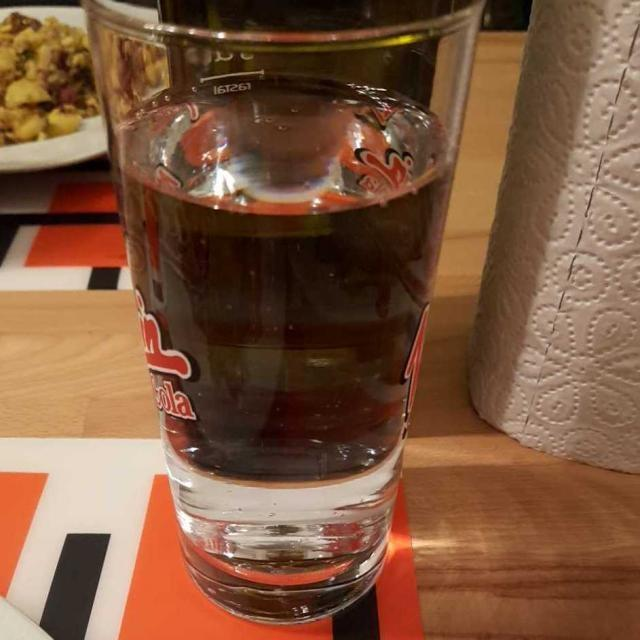water: (129, 115, 433, 507)
